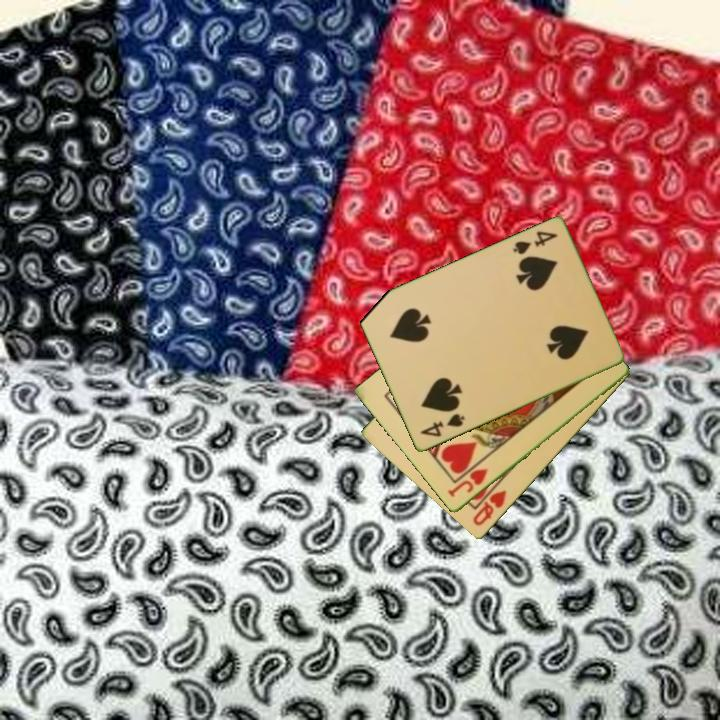4s: (509, 227, 560, 258), (416, 410, 467, 440)
Jh: (444, 465, 491, 501)
Qh: (469, 487, 510, 529)
